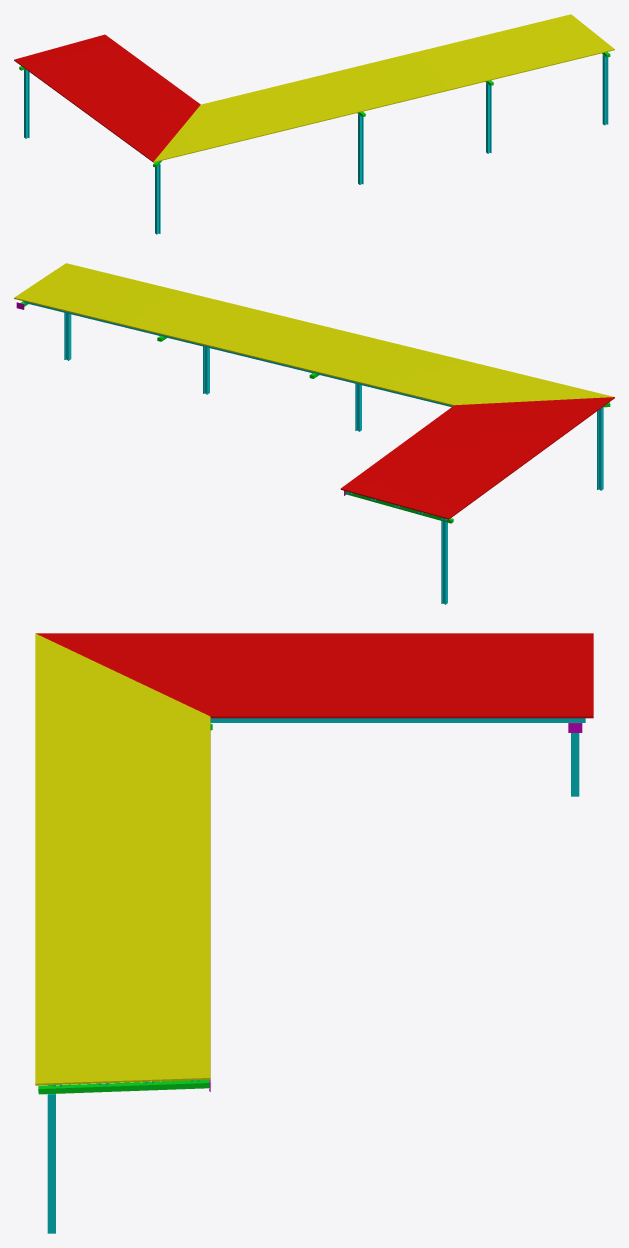
The model's file is roofing_iron.FBX.
3 views of the same model, one above another, from view 1: azimuth 30°, elevation 25°; view 2: azimuth 150°, elevation 25°; view 3: azimuth 270°, elevation 25° (orthographic). The views are drawn at different scales.
Visible parts, largest first — view 1: roofing_iron; view 2: roofing_iron; view 3: roofing_iron.
Boxes of the visible parts, x1,y1,x2,y2 form: roofing_iron: (14, 14, 614, 234); roofing_iron: (14, 263, 614, 604); roofing_iron: (35, 633, 593, 1233).
Size of the model in its own units: 25.3 by 13.25 by 4.17.
